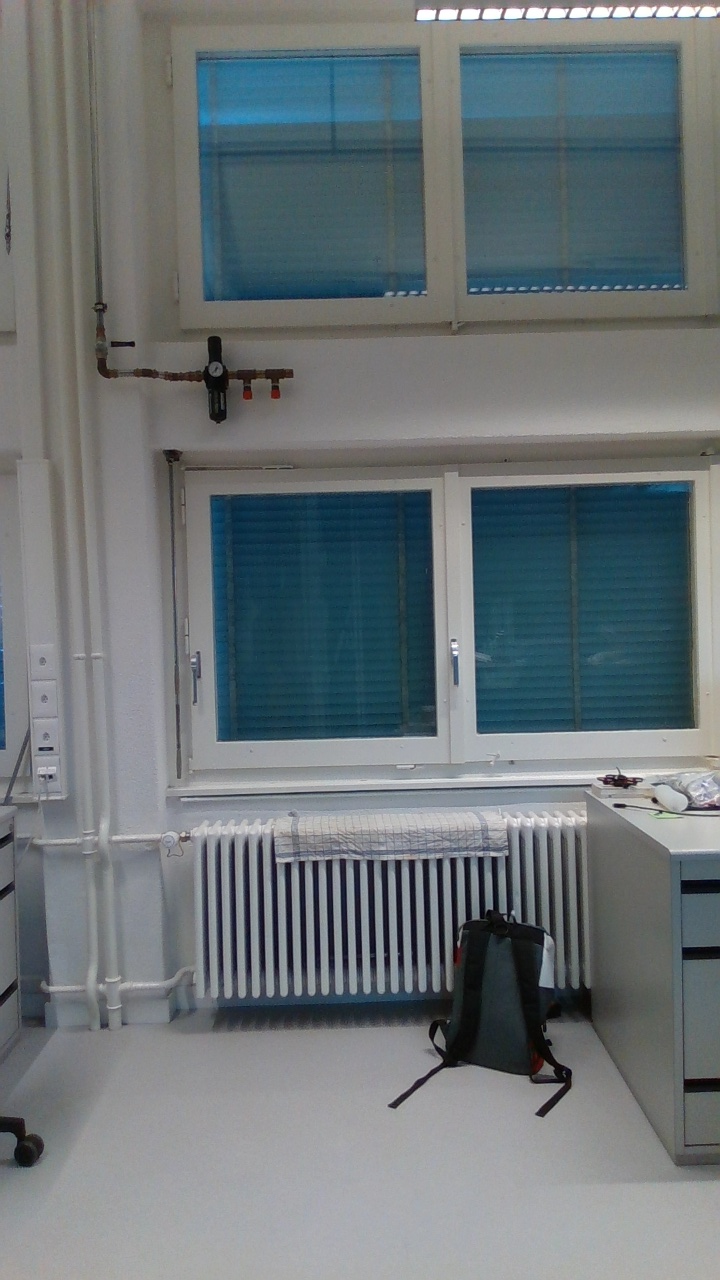Knob_Radiator: (155, 826, 187, 856)
Radiator: (186, 807, 583, 1007)
